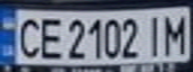0: (103, 15, 124, 60)
1: (84, 15, 106, 60)
2: (63, 15, 87, 60), (118, 15, 142, 60)
C: (12, 13, 45, 60)
E: (36, 14, 66, 61)
I: (142, 11, 169, 57)
M: (160, 10, 190, 56)
